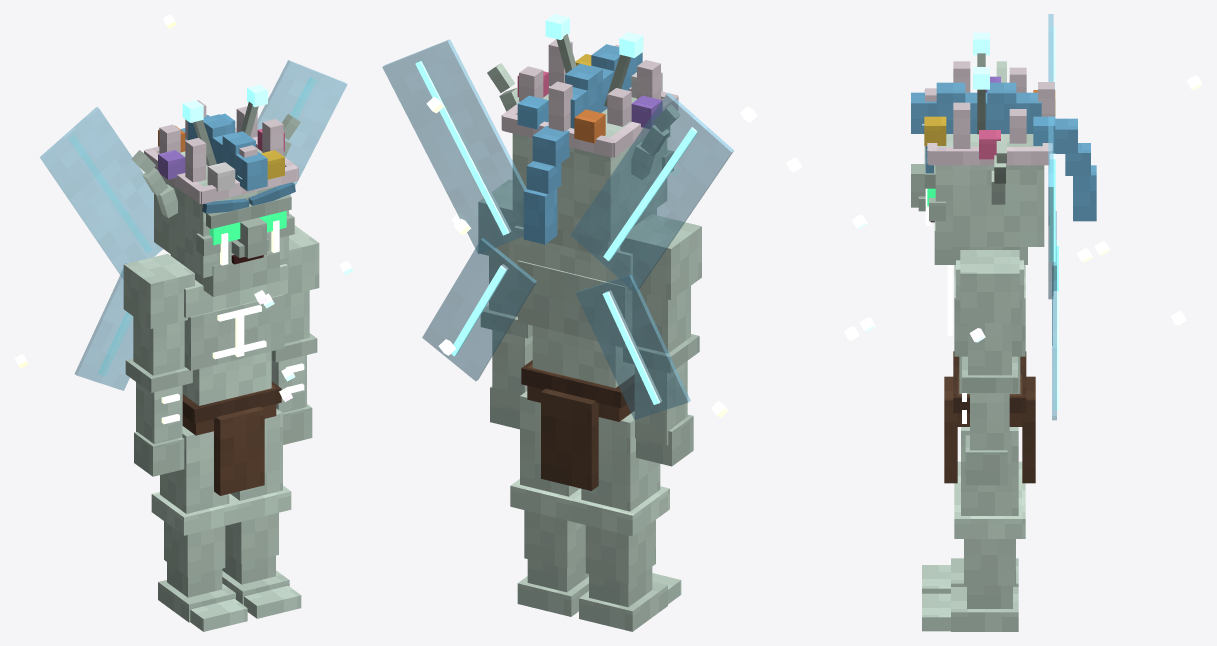
The model's file is fairy_base_evo1.glb.
3 renders of one model, left to right at view 1: azimuth 30°, elevation 25°; view 2: azimuth 150°, elevation 25°; view 3: azimuth 270°, elevation 25°, orthographic. The views are drawn at different scales.
Visible parts, largest first — view 1: Torso, Head, ArmR, LegR, LegL, ArmL; view 2: Torso, Head, LegR, ArmR, LegL, ArmL; view 3: Head, ArmL, LegL, Torso, LegR.
Part boxes in pixels (left/top/right/bottom): Torso: left=14, top=14, right=353, bottom=495; Head: left=131, top=84, right=300, bottom=296; ArmR: left=123, top=253, right=194, bottom=476; LegR: left=151, top=426, right=247, bottom=631; LegL: left=222, top=408, right=301, bottom=618; ArmL: left=271, top=225, right=319, bottom=444; Torso: left=382, top=39, right=757, bottom=490; Head: left=487, top=14, right=680, bottom=255; LegR: left=571, top=411, right=681, bottom=631; ArmR: left=620, top=214, right=701, bottom=466; LegL: left=510, top=391, right=588, bottom=616; ArmL: left=478, top=179, right=532, bottom=429; Head: left=911, top=32, right=1096, bottom=264; ArmL: left=960, top=250, right=1019, bottom=485; LegL: left=922, top=427, right=1025, bottom=631; Torso: left=786, top=14, right=1202, bottom=483; LegR: left=922, top=461, right=1025, bottom=593.
Bounding box in the file's own units: 0.7287 × 1.11 × 0.7622.
33 materials, 33 textured.
